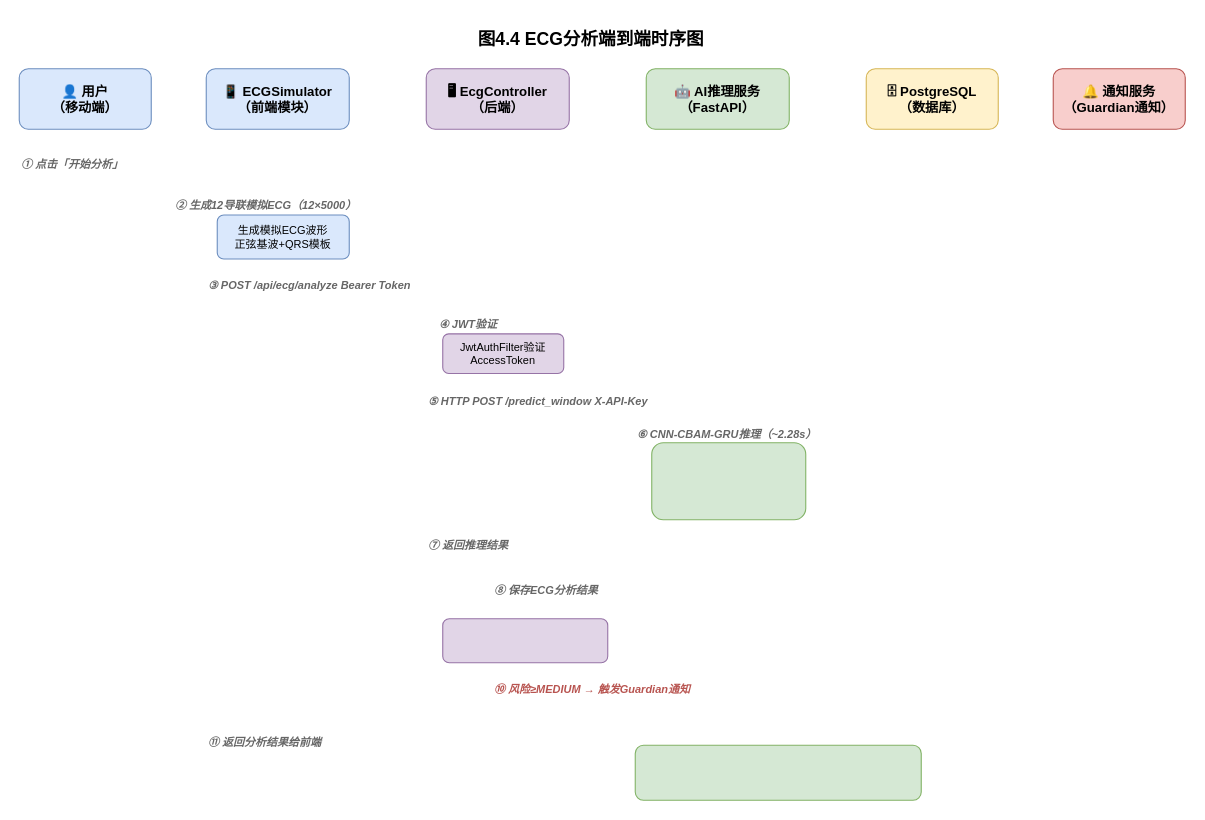
Image size: 1205x820. Some labels were removed from this diagram. The shapes that lost their labels are listed below. From the top down, each one's box as (x1, y1, x2, y2) in pixels, then its label:
(651, 442, 806, 520): 带通滤波 → Z-score归一化 → 长度对齐(5000pt) → CNN-CBAM-GRU前向推理 → Sigmoid输出
(442, 618, 608, 663): ⚠️ 风险等级判断 HIGH / MEDIUM / LOW
(634, 744, 921, 800): 端到端延迟：约2.5~3s（含网络往返） AI推理占主要延迟：avg 2,279ms
